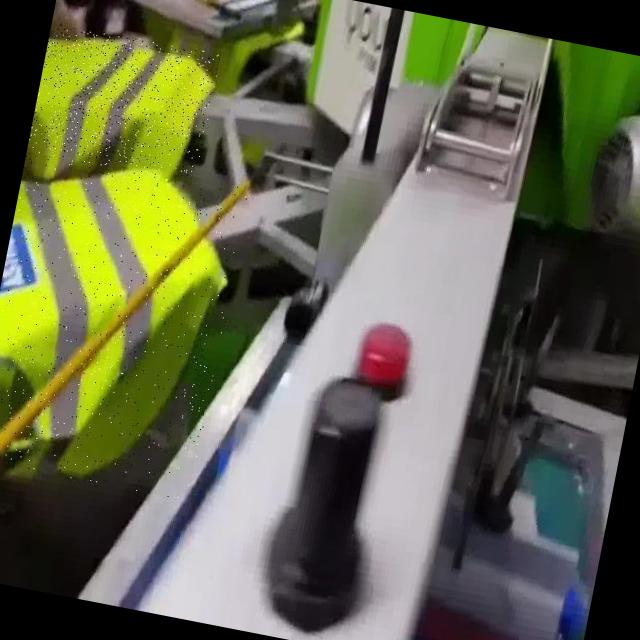safety_vest: (0, 145, 250, 502), (22, 22, 221, 210)
